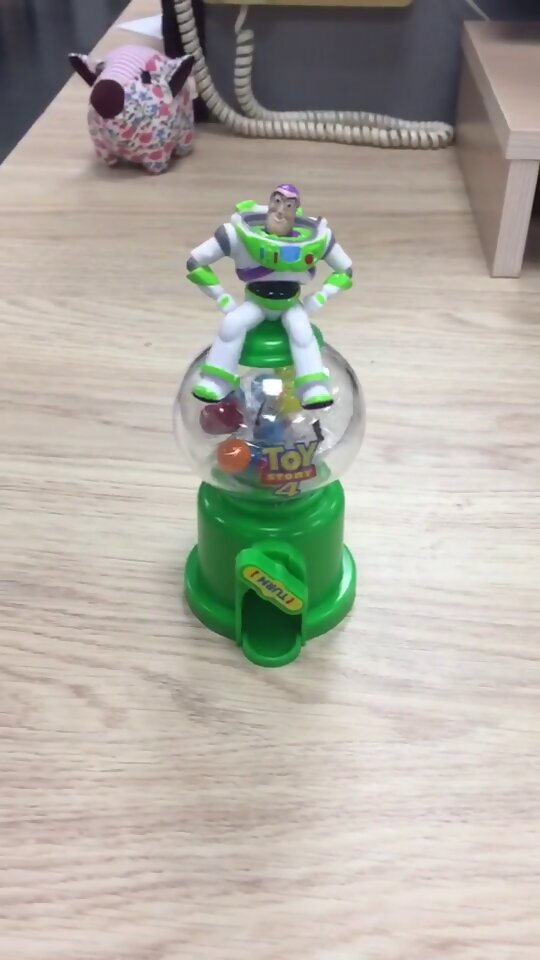buzz: (167, 178, 370, 669)
